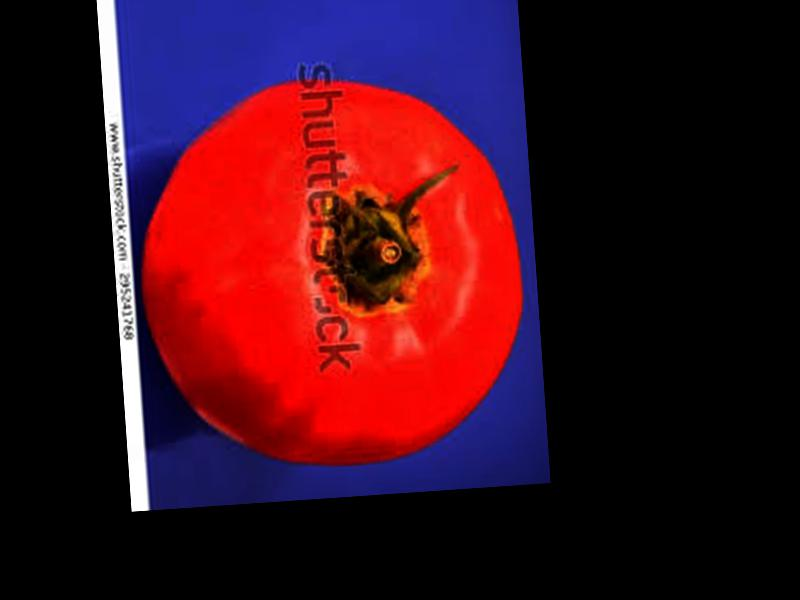Tomato: (136, 66, 533, 478)
